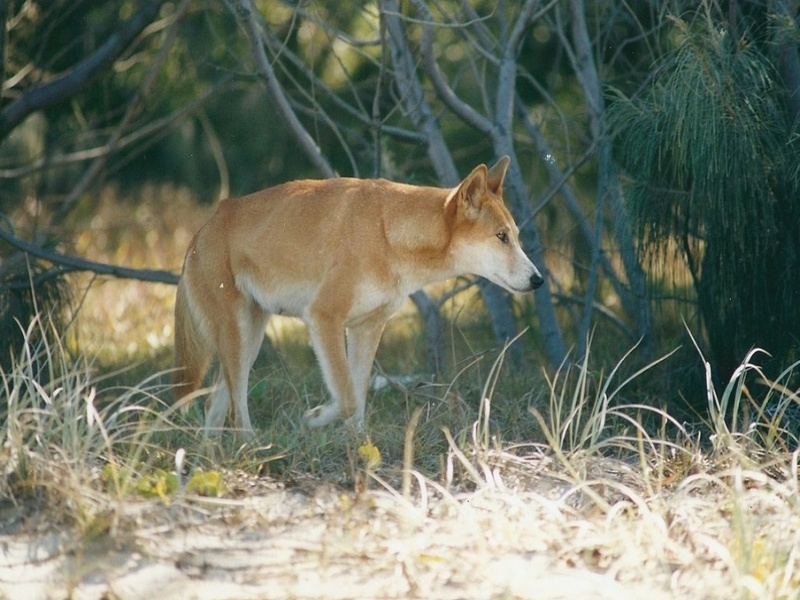dog: (166, 150, 545, 473)
